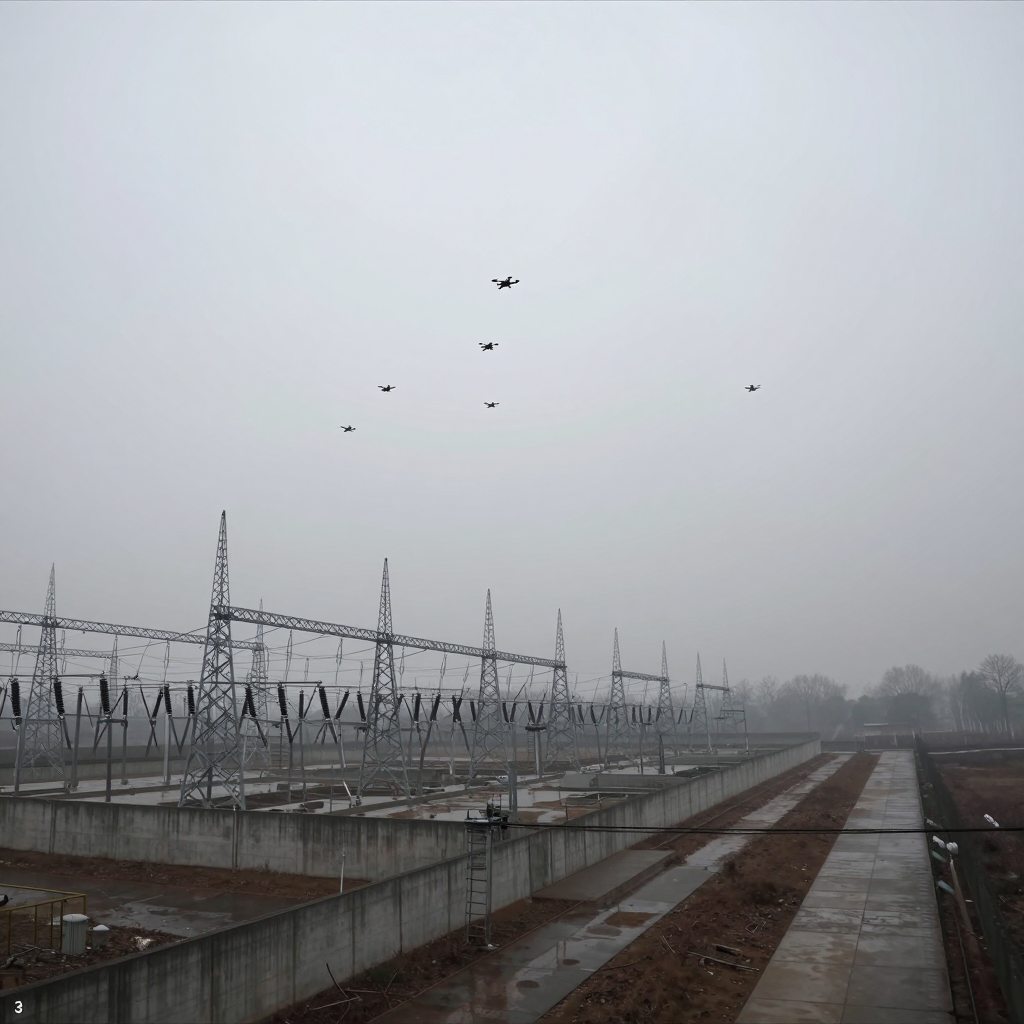drone: (491, 276, 519, 289), (479, 342, 499, 351), (745, 384, 761, 392), (378, 385, 396, 392), (341, 425, 356, 433), (484, 401, 500, 408)
